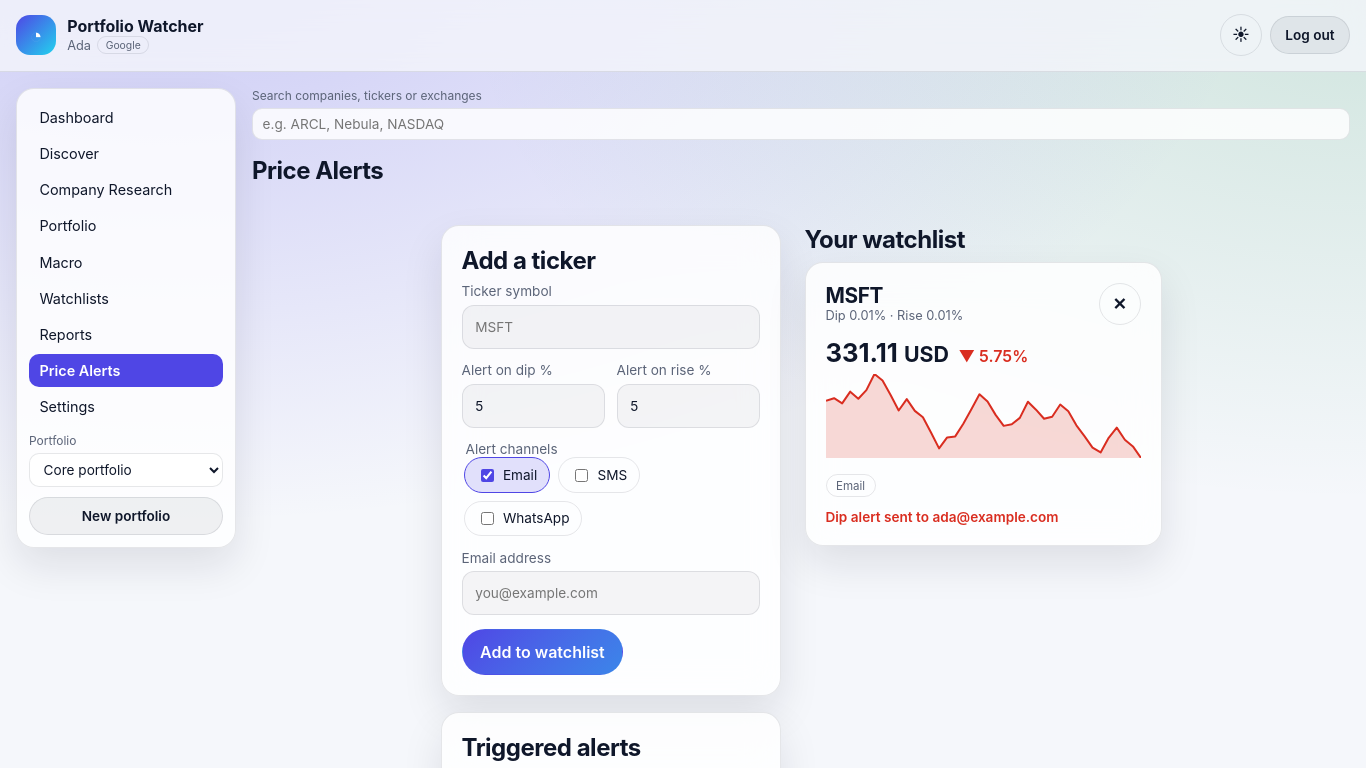
it: App › wipes the stored watchlist on sign out
The width and height of the screenshot is (1366, 768).
Click the button "Log out".
click(1310, 35)  # box [1270,16,1350,54]
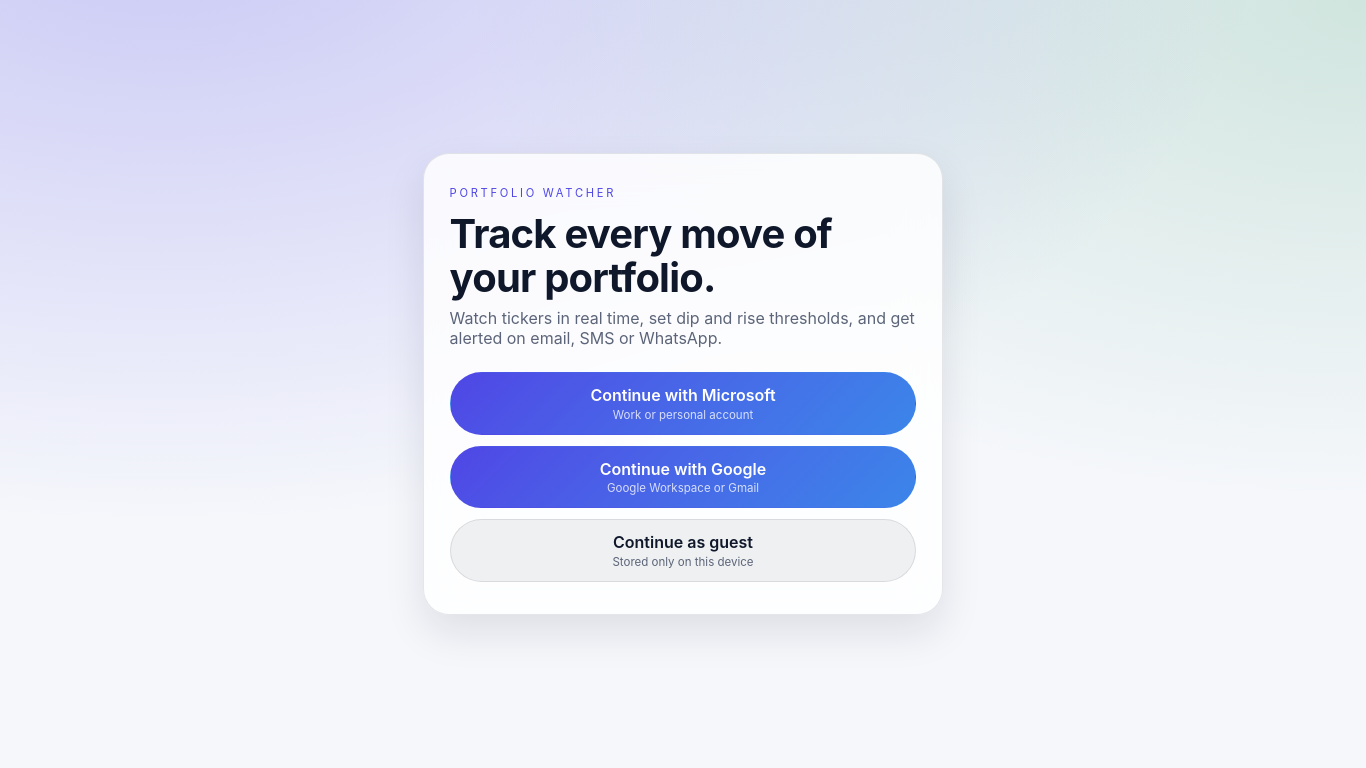
Now the heading "Track every move of your portfolio." is shown, box [450,209,832,302]
